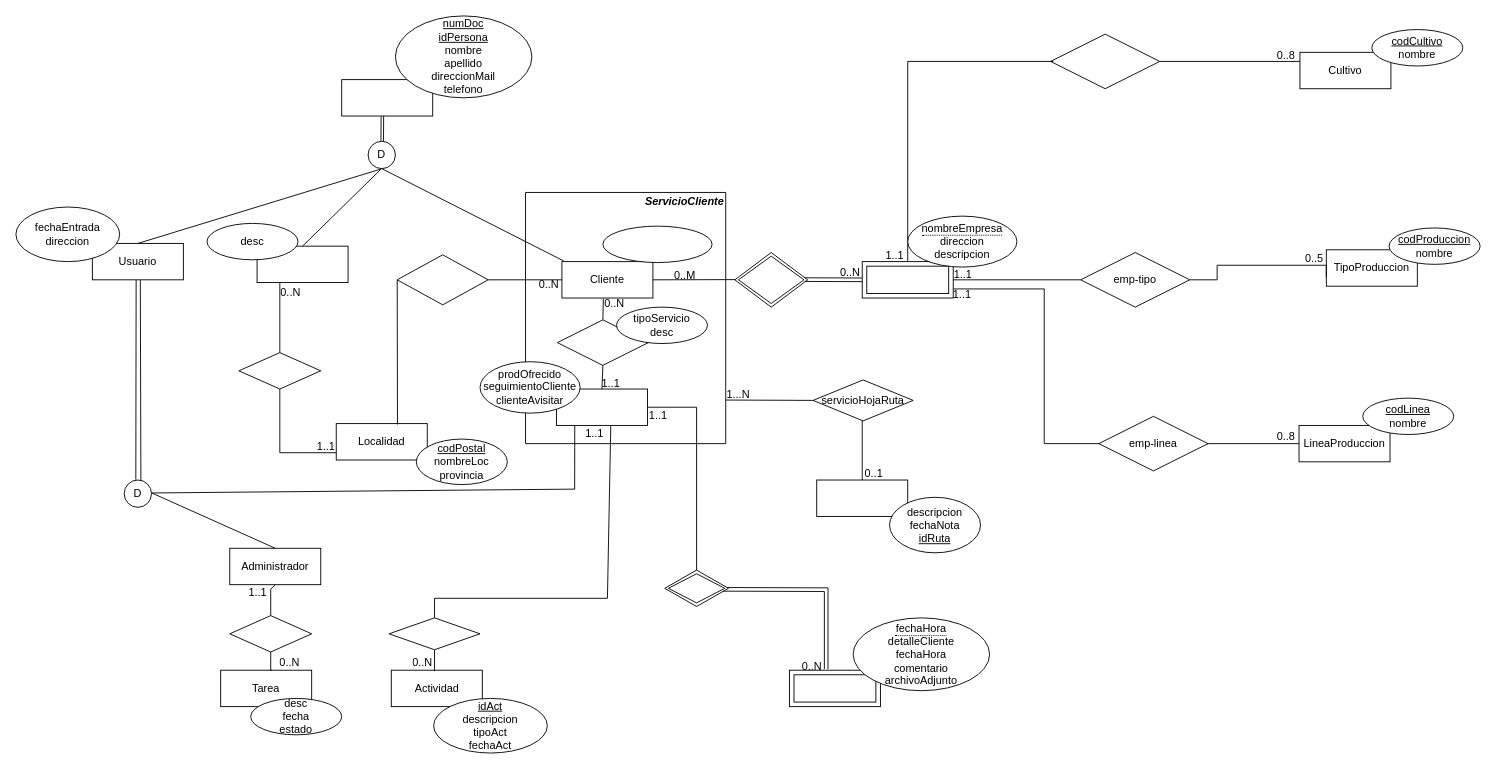
Image size: 1496x769. Some labels were removed from this diagram. Here are the shapes that lost their labels. From the top down, the centre of each, then its label:
At (x=1105, y=61): "emp-cult".
At (x=387, y=97): "Persona".
At (x=302, y=264): "Provedor".
At (x=657, y=244): "tipoCliente fechaAgregado".
At (x=442, y=279): "localidadProvedor".
At (x=771, y=279): "empresa-cli".
At (x=907, y=279): "EmpresaCliente".
At (x=602, y=342): "Servicio".
At (x=279, y=370): "localidadCliente".
At (x=601, y=406): "Vendedor".
At (x=862, y=497): "HojaRuta".
At (x=270, y=633): "tareaAsignar".
At (x=434, y=633): "ven-act".
At (x=834, y=688): "Formulario Regis".
